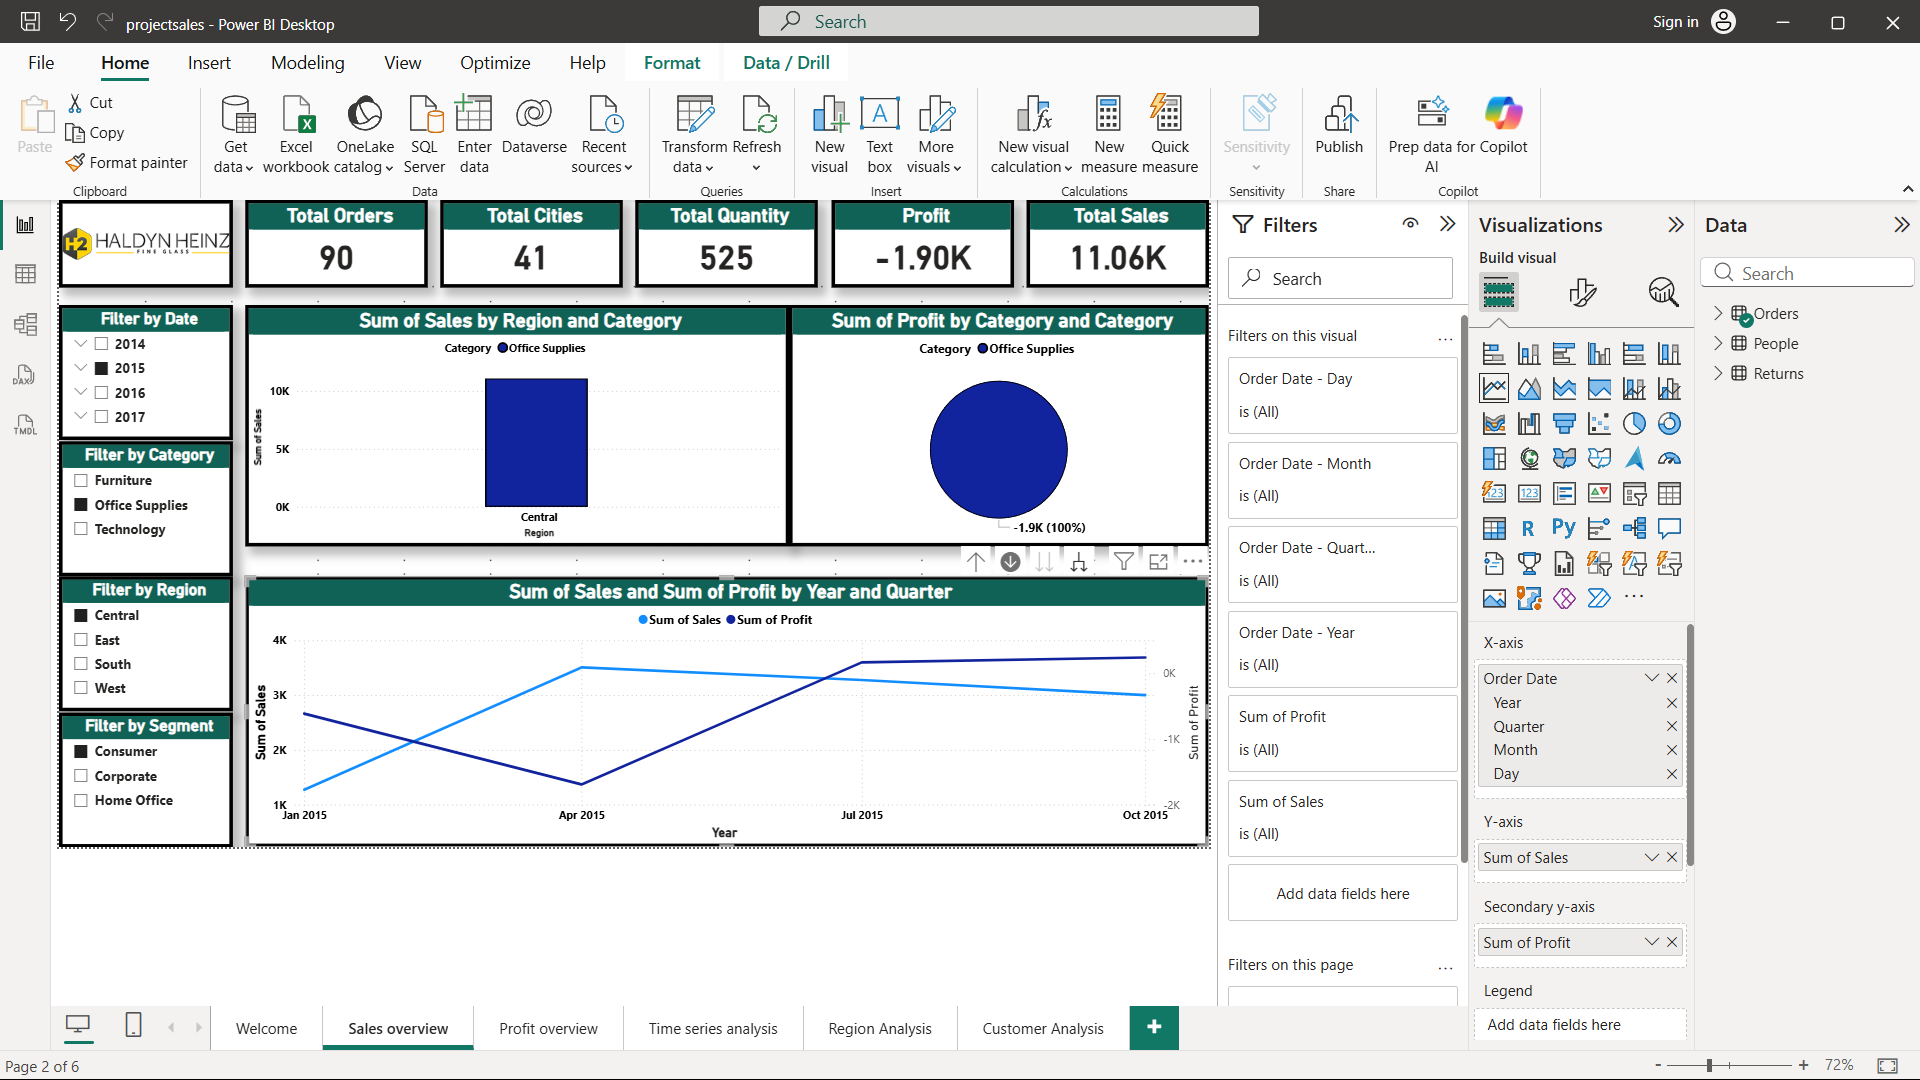

This screenshot's page, from the dashboard's own definition file:
{"tool":"powerbi","page":{"name":"Sales overview","canvas":[1280,720],"ordinal":1},"visuals":[{"type":"image","box":[0,0,193.4,97.4],"z":0},{"type":"card","title":"Total Orders","fields":{"Values":["Orders.Order ID"]},"box":[207.3,0,203.1,97.4],"z":1000},{"type":"card","title":"Total Cities","fields":{"Values":["Orders.City"]},"box":[424.7,0,203.1,97.4],"z":2000},{"type":"card","title":"Total Quantity","fields":{"Values":["Orders.Quantity"]},"box":[642.1,0,203.1,97.4],"z":3000},{"type":"card","title":"Profit","fields":{"Values":["Orders.Profit"]},"box":[859.5,0,203.1,97.4],"z":4000},{"type":"card","title":"Total Sales","fields":{"Values":["Orders.Sales"]},"box":[1076.9,0,203.1,97.4],"z":5000},{"type":"slicer","title":"Filter by Date","fields":{"Values":["Orders.Order Date.Variation.Date Hierarchy.Year","Orders.Order Date.Variation.Date Hierarchy.Quarter","Orders.Order Date.Variation.Date Hierarchy.Month","Orders.Order Date.Variation.Date Hierarchy.Day"]},"box":[0,116.9,193.4,150.3],"z":6000},{"type":"slicer","title":"Filter by Category","fields":{"Values":["Orders.Category"]},"box":[0,268.1,193.4,150.3],"z":7000},{"type":"slicer","title":"Filter by Region","fields":{"Values":["Orders.Region"]},"box":[0,419.2,193.4,150.3],"z":8000},{"type":"slicer","title":"Filter by Segment","fields":{"Values":["Orders.Segment"]},"box":[0,569.7,193.4,150.3],"z":9000},{"type":"clusteredColumnChart","fields":{"Y":["Orders.Sales"],"Category":["Orders.Region"],"Series":["Orders.Category"]},"box":[207.3,116.9,605.2,268.5],"z":10000},{"type":"pieChart","fields":{"Series":["Orders.Category"],"Y":["Orders.Profit"],"Category":["Orders.Category"]},"box":[812.5,116.9,467.5,268.5],"z":11000},{"type":"lineChart","fields":{"Y":["Orders.Sales"],"Category":["Orders.Order Date.Variation.Date Hierarchy.Year","Orders.Order Date.Variation.Date Hierarchy.Quarter","Orders.Order Date.Variation.Date Hierarchy.Month","Orders.Order Date.Variation.Date Hierarchy.Day"],"Y2":["Orders.Profit"]},"box":[207.3,418.8,605.2,301.9],"z":12000}]}

Visuals, with their boxes on the page's 1280x720 design canvas (x1, y1, x2, y2). These are canvas units, not pixel positions in the 1920x1080 screenshot, which may show the page scaled, cropped or inside an application window:
image: (0,0,193,97)
"Total Orders" card: (207,0,410,97)
"Total Cities" card: (425,0,628,97)
"Total Quantity" card: (642,0,845,97)
"Profit" card: (860,0,1063,97)
"Total Sales" card: (1077,0,1280,97)
"Filter by Date" slicer: (0,117,193,267)
"Filter by Category" slicer: (0,268,193,418)
"Filter by Region" slicer: (0,419,193,570)
"Filter by Segment" slicer: (0,570,193,720)
clusteredColumnChart - Orders.Sales x Orders.Region: (207,117,812,385)
pieChart - Orders.Category x Orders.Profit: (812,117,1280,385)
lineChart - Orders.Sales x Orders.Order Date.Variation.Date Hierarchy.Year: (207,419,812,721)
